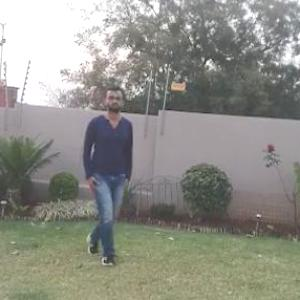follow: (84, 83, 133, 263)
